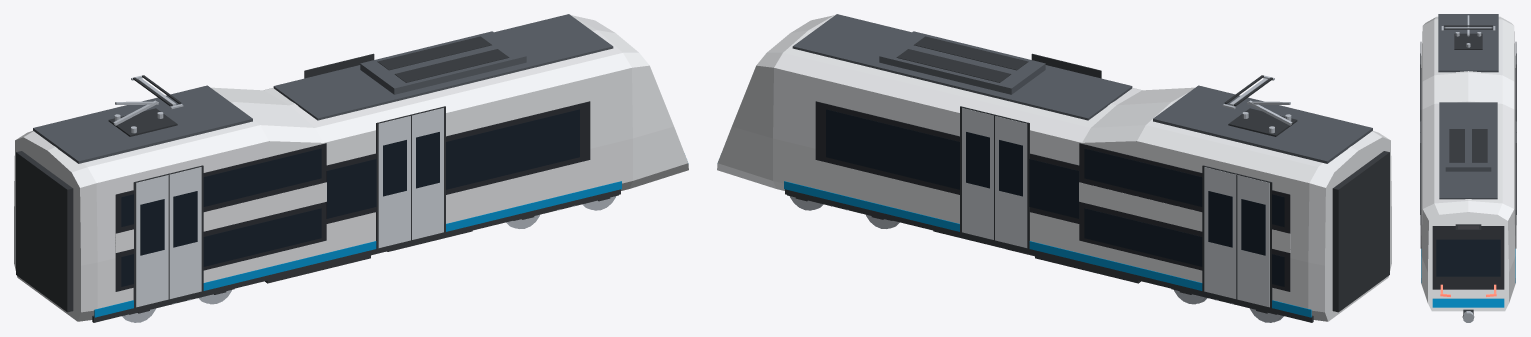
File: rer_e_rerng__tail.glb
3 renders of one model, left to right at view 1: azimuth 30°, elevation 25°; view 2: azimuth 150°, elevation 25°; view 3: azimuth 270°, elevation 25°, orthographic. The views are drawn at different scales.
Visible parts, largest first — view 1: rer_e_rerng_tail; view 2: rer_e_rerng_tail; view 3: rer_e_rerng_tail.
Boxes of the visible parts, left/top/right/bottom form: rer_e_rerng_tail: left=14, top=14, right=688, bottom=322; rer_e_rerng_tail: left=717, top=14, right=1391, bottom=322; rer_e_rerng_tail: left=1420, top=14, right=1516, bottom=322.
Size of the model in its own units: 15.37 by 4.88 by 3.06.
